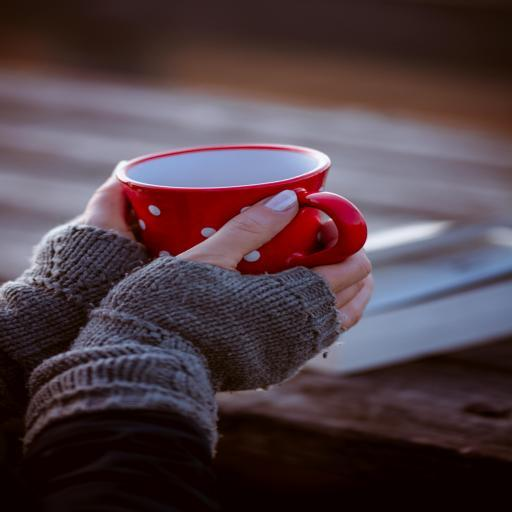cup: (116, 142, 368, 277)
